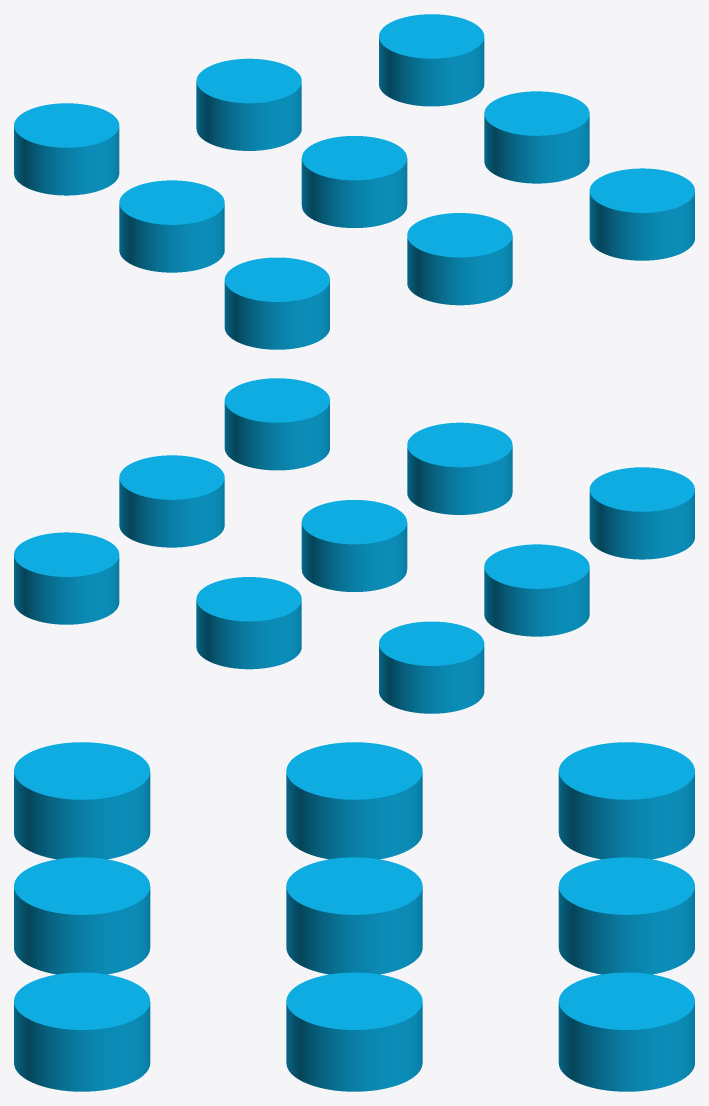
Rendered from coklu_daire.gltf.
3 renders of one model, top to bottom at view 1: azimuth 30°, elevation 25°; view 2: azimuth 150°, elevation 25°; view 3: azimuth 270°, elevation 25°, orthographic. The views are drawn at different scales.
Visible parts, largest first — view 1: Open CASCADE STEP translator 7.8 9.5, Open CASCADE STEP translator 7.8 9.3, Open CASCADE STEP translator 7.8 9.7, Open CASCADE STEP translator 7.8 9.1, Open CASCADE STEP translator 7.8 9.2, Open CASCADE STEP translator 7.8 9.9, Open CASCADE STEP translator 7.8 9.6, Open CASCADE STEP translator 7.8 9.4, Open CASCADE STEP translator 7.8 9.8; view 2: Open CASCADE STEP translator 7.8 9.5, Open CASCADE STEP translator 7.8 9.1, Open CASCADE STEP translator 7.8 9.9, Open CASCADE STEP translator 7.8 9.3, Open CASCADE STEP translator 7.8 9.2, Open CASCADE STEP translator 7.8 9.7, Open CASCADE STEP translator 7.8 9.4, Open CASCADE STEP translator 7.8 9.6, Open CASCADE STEP translator 7.8 9.8; view 3: Open CASCADE STEP translator 7.8 9.7, Open CASCADE STEP translator 7.8 9.8, Open CASCADE STEP translator 7.8 9.9, Open CASCADE STEP translator 7.8 9.5, Open CASCADE STEP translator 7.8 9.2, Open CASCADE STEP translator 7.8 9.1, Open CASCADE STEP translator 7.8 9.3, Open CASCADE STEP translator 7.8 9.4, Open CASCADE STEP translator 7.8 9.6.
Part boxes in pixels (box(x1,y1,x2,y2)): Open CASCADE STEP translator 7.8 9.5: box(301, 136, 407, 227); Open CASCADE STEP translator 7.8 9.3: box(14, 103, 119, 195); Open CASCADE STEP translator 7.8 9.7: box(589, 168, 694, 260); Open CASCADE STEP translator 7.8 9.1: box(224, 257, 329, 349); Open CASCADE STEP translator 7.8 9.2: box(119, 180, 224, 272); Open CASCADE STEP translator 7.8 9.9: box(379, 14, 484, 106); Open CASCADE STEP translator 7.8 9.6: box(196, 58, 301, 150); Open CASCADE STEP translator 7.8 9.4: box(407, 213, 512, 305); Open CASCADE STEP translator 7.8 9.8: box(484, 91, 589, 183); Open CASCADE STEP translator 7.8 9.5: box(301, 500, 407, 591); Open CASCADE STEP translator 7.8 9.1: box(589, 467, 694, 559); Open CASCADE STEP translator 7.8 9.9: box(14, 532, 119, 624); Open CASCADE STEP translator 7.8 9.3: box(379, 621, 484, 713); Open CASCADE STEP translator 7.8 9.2: box(484, 544, 589, 636); Open CASCADE STEP translator 7.8 9.7: box(224, 378, 329, 470); Open CASCADE STEP translator 7.8 9.4: box(407, 422, 512, 514); Open CASCADE STEP translator 7.8 9.6: box(196, 577, 301, 669); Open CASCADE STEP translator 7.8 9.8: box(119, 455, 224, 547); Open CASCADE STEP translator 7.8 9.7: box(14, 972, 150, 1091); Open CASCADE STEP translator 7.8 9.8: box(286, 972, 422, 1091); Open CASCADE STEP translator 7.8 9.9: box(558, 972, 694, 1091); Open CASCADE STEP translator 7.8 9.5: box(286, 857, 422, 974); Open CASCADE STEP translator 7.8 9.2: box(286, 742, 422, 859); Open CASCADE STEP translator 7.8 9.1: box(14, 742, 150, 859); Open CASCADE STEP translator 7.8 9.3: box(558, 742, 694, 859); Open CASCADE STEP translator 7.8 9.4: box(14, 857, 150, 974); Open CASCADE STEP translator 7.8 9.6: box(558, 857, 694, 974).
Size of the model in its own units: 0.05 by 0.005 by 0.05.
